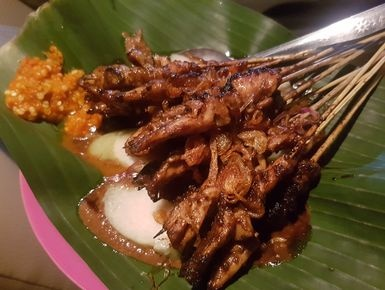sate_madura: (84, 36, 385, 289)
